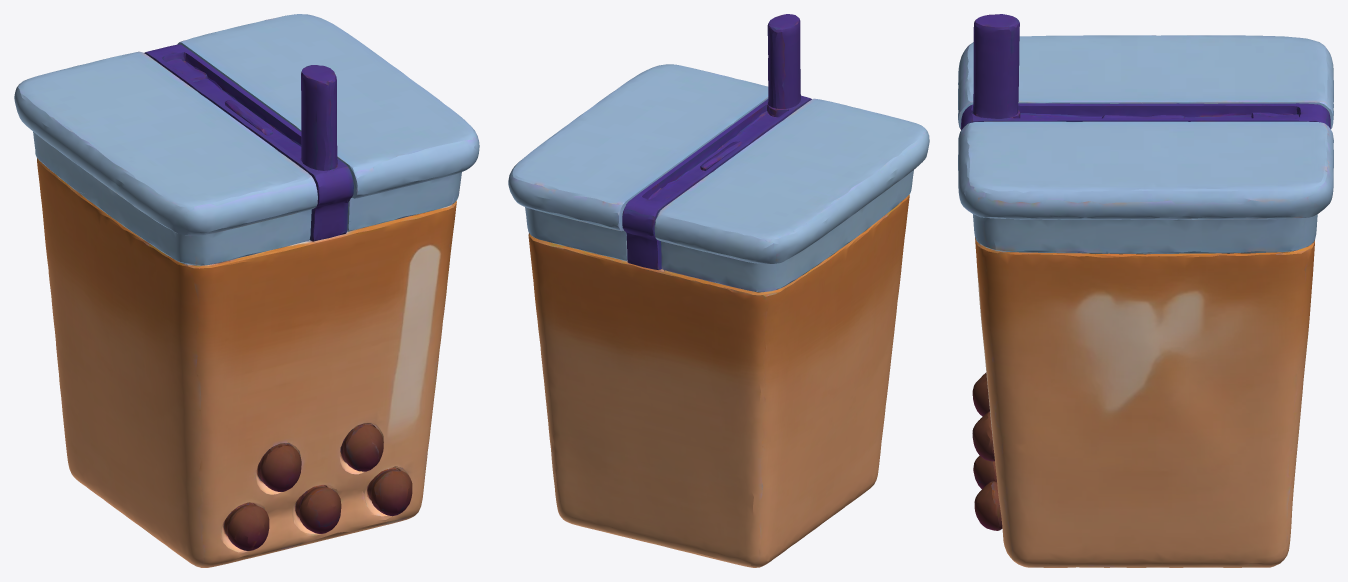
File: bubble-tea.glb
3 renders of one model, left to right at view 1: azimuth 30°, elevation 25°; view 2: azimuth 150°, elevation 25°; view 3: azimuth 270°, elevation 25°, orthographic. The views are drawn at different scales.
Parts seen in each view (by area): view 1: Mesh; view 2: Mesh; view 3: Mesh.
Part boxes in pixels (<box>): Mesh: <box>14,14,479,567</box>; Mesh: <box>508,14,929,567</box>; Mesh: <box>958,14,1333,567</box>.
Size of the model in its own units: 0.7015 by 1 by 0.6893.
1 material, 1 textured.
